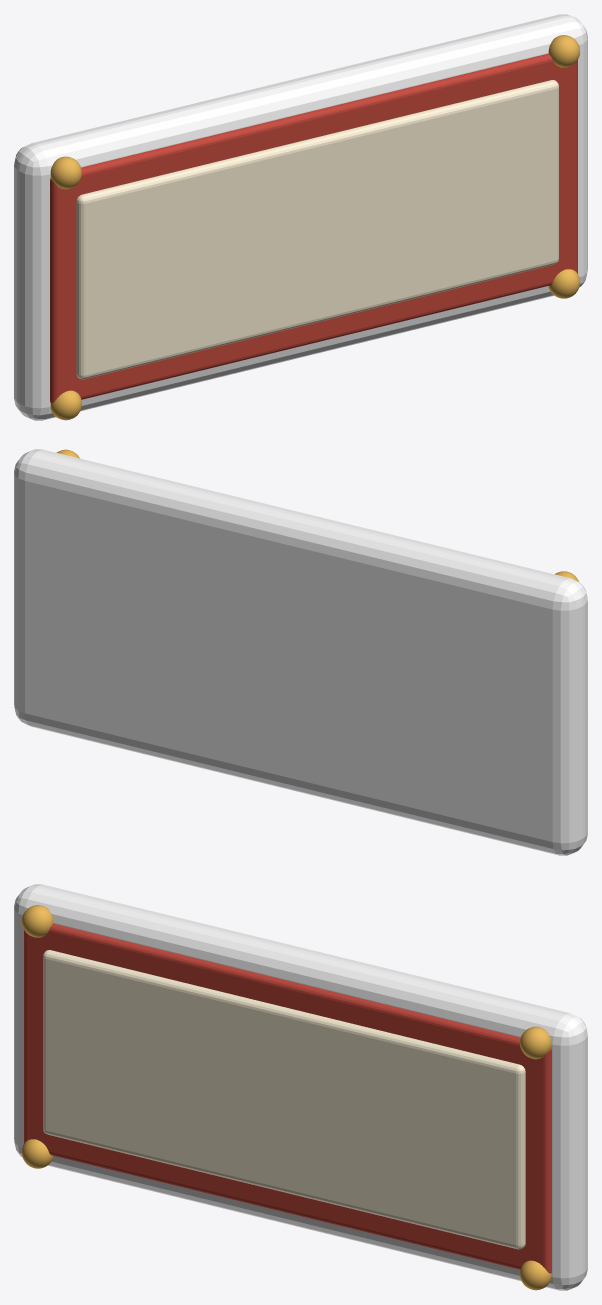
File: ui-button.glb
3 renders of one model, top to bottom at view 1: azimuth 30°, elevation 25°; view 2: azimuth 150°, elevation 25°; view 3: azimuth 330°, elevation 25°, orthographic.
Visible parts, largest first — view 1: UI · button cream writing face, UI · button board, UI · button barn-red pinstripe, UI · button corner bolt -11, UI · button corner bolt 11, UI · button corner bolt -1-1, UI · button corner bolt 1-1; view 2: UI · button board; view 3: UI · button cream writing face, UI · button board, UI · button barn-red pinstripe, UI · button corner bolt 11, UI · button corner bolt -11, UI · button corner bolt 1-1, UI · button corner bolt -1-1.
Part boxes in pixels (x1=…): UI · button cream writing face: x1=76, y1=80, x2=558, y2=379; UI · button board: x1=14, y1=14, x2=587, y2=420; UI · button barn-red pinstripe: x1=50, y1=53, x2=577, y2=403; UI · button corner bolt -11: x1=50, y1=156, x2=81, y2=189; UI · button corner bolt 11: x1=548, y1=35, x2=579, y2=67; UI · button corner bolt -1-1: x1=50, y1=390, x2=81, y2=420; UI · button corner bolt 1-1: x1=548, y1=269, x2=579, y2=298; UI · button board: x1=14, y1=449, x2=587, y2=855; UI · button cream writing face: x1=43, y1=950, x2=525, y2=1249; UI · button board: x1=14, y1=884, x2=587, y2=1290; UI · button barn-red pinstripe: x1=24, y1=923, x2=551, y2=1273; UI · button corner bolt 11: x1=520, y1=1026, x2=551, y2=1059; UI · button corner bolt -11: x1=22, y1=905, x2=53, y2=937; UI · button corner bolt 1-1: x1=520, y1=1260, x2=551, y2=1290; UI · button corner bolt -1-1: x1=22, y1=1139, x2=53, y2=1168.
Size of the model in its own units: 2 by 0.92 by 0.21.
